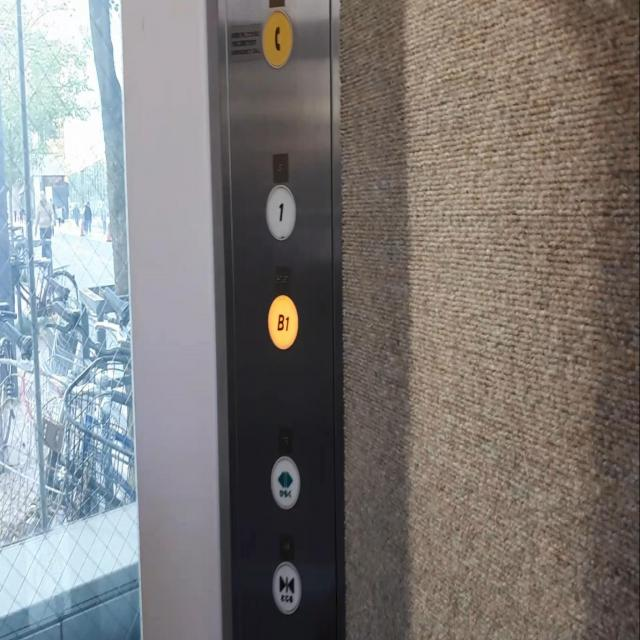1: (263, 178, 298, 242)
B1: (266, 288, 300, 352)
call: (258, 4, 296, 70)
close: (269, 554, 304, 618)
open: (267, 450, 302, 514)
